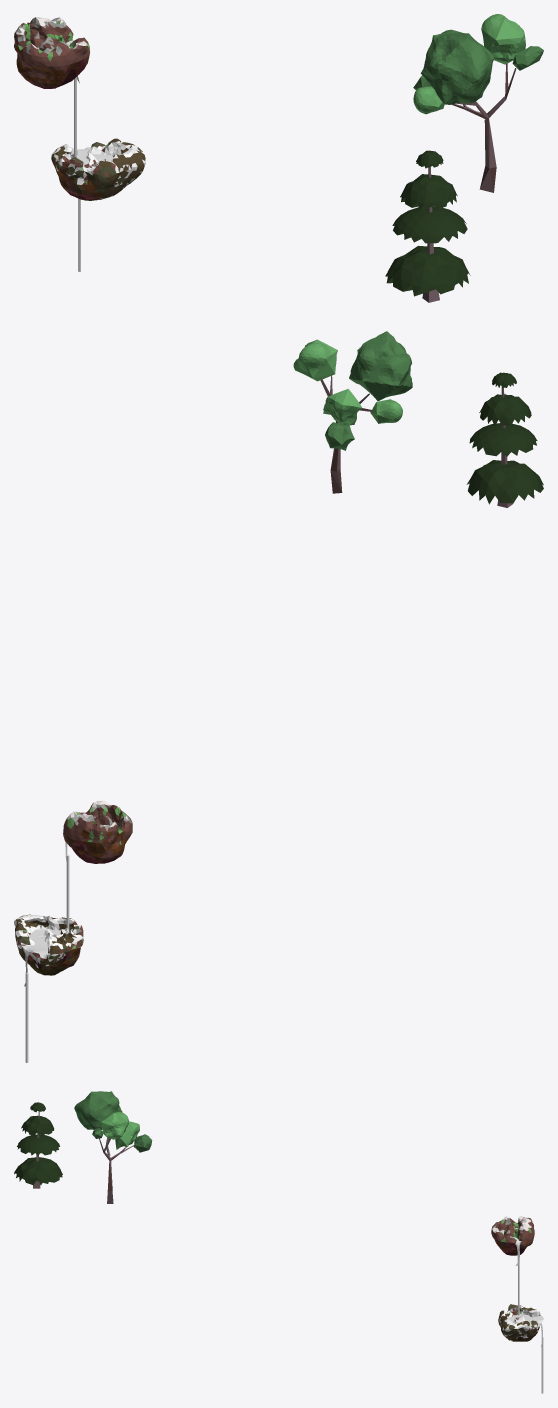
File: 12100background.fbx
3 views of the same model, one above another, from view 1: azimuth 30°, elevation 25°; view 2: azimuth 150°, elevation 25°; view 3: azimuth 270°, elevation 25° (orthographic). The views are drawn at different scales.
Parts seen in each view (by area): view 1: Icosphere.011, Icosphere, Icosphere.003, Plane.006, Plane.005, Plane.012, Plane.010; view 2: Icosphere.011, Icosphere, Icosphere.003, Plane.006, Plane.005, Plane.012; view 3: Icosphere.011, Icosphere, Icosphere.003, Plane.006, Plane.005, Plane.012.
Part boxes in pixels (box(x1,y1,x2,y2)): Icosphere.011: box(413, 14, 543, 192); Icosphere: box(14, 17, 89, 88); Icosphere.003: box(51, 138, 145, 200); Plane.006: box(385, 245, 470, 296); Plane.005: box(392, 206, 467, 243); Plane.012: box(400, 174, 457, 210); Plane.010: box(416, 150, 443, 168); Icosphere.011: box(293, 331, 412, 493); Icosphere: box(63, 801, 132, 863); Icosphere.003: box(14, 914, 83, 975); Plane.006: box(466, 460, 543, 504); Plane.005: box(469, 423, 537, 456); Plane.012: box(479, 394, 531, 426); Icosphere.011: box(74, 1091, 152, 1203); Icosphere: box(491, 1216, 534, 1255); Icosphere.003: box(498, 1304, 540, 1341); Plane.006: box(14, 1157, 62, 1185); Plane.005: box(17, 1134, 59, 1155); Plane.012: box(21, 1115, 54, 1135).
Bounding box in the file's own units: 593 × 1464 × 2343.
